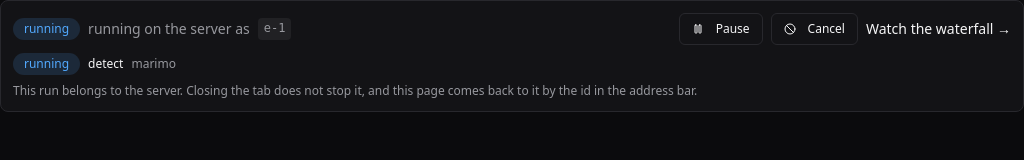
Test: commanding a managed run › shows a pause the caller is not allowed to make, and does not re-read the run
Step 1. Click the button "Pause" → (721, 29), box [679, 13, 763, 45]
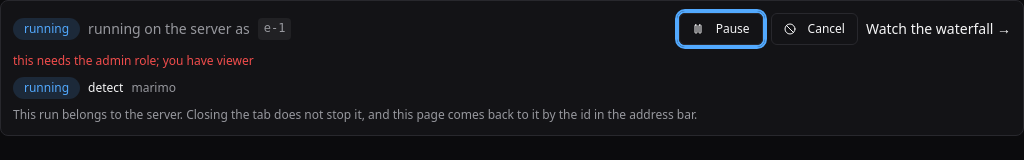
Expected: the text "running" next to "running on the server as" is shown, [24, 20, 69, 37]
Expected: the text "this needs the admin role; you have viewer" is shown, [13, 52, 254, 69]
